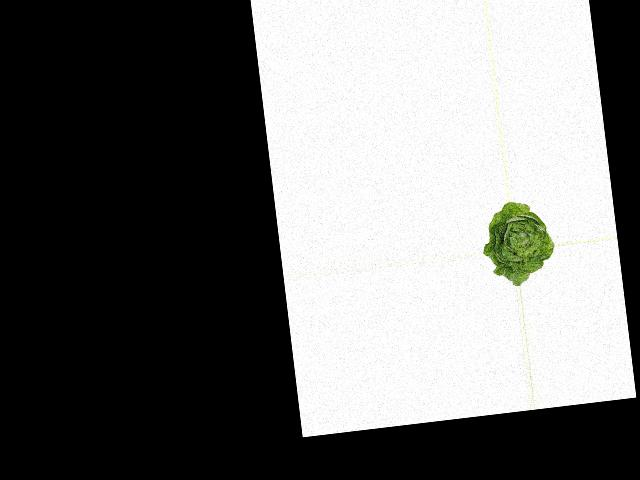lettuce: (477, 197, 557, 287)
